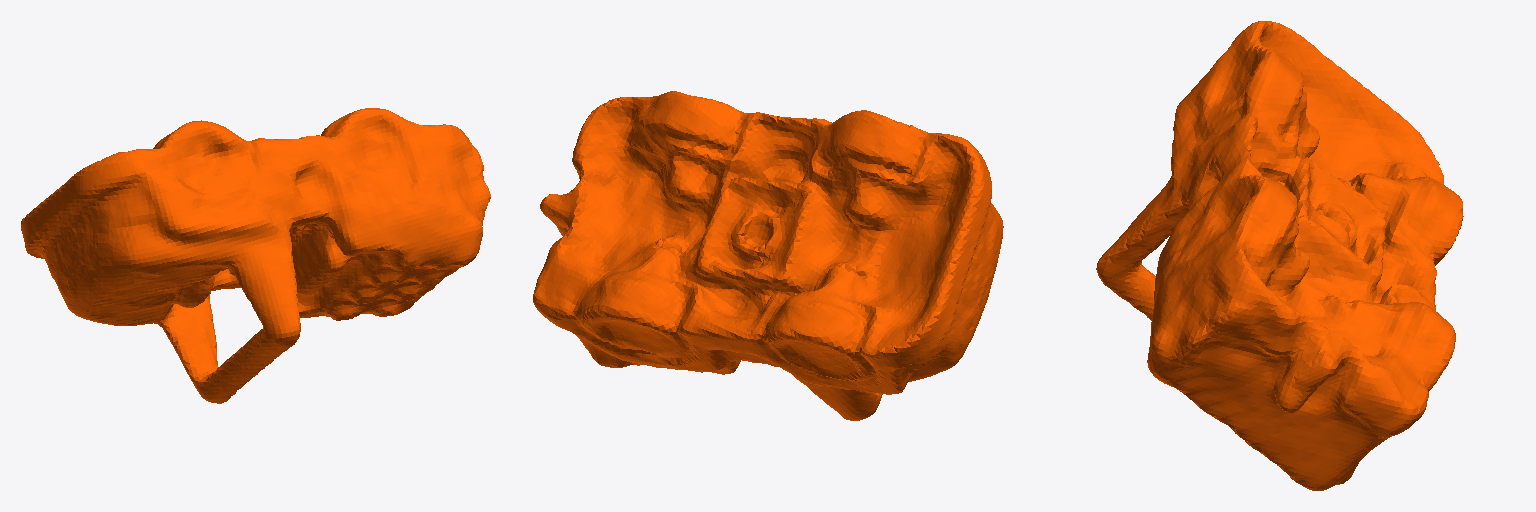
robot.urdf — 5fdcfc03f:
<?xml version="1.0" ?>
<robot name="5fdcfc03f">
   <material name="obj_color">
      <color rgba="1.0 0.423529411765 0.0392156862745 1.0"/>
   </material>
   <link name="top">
      <inertial>
         <origin rpy="0.0004731416551344318 0.001313042995061918 0.001545389974051939" xyz="0.0007319391253370718 0.004420278183695226 0.002109908604886679"/>
         <mass value="0.5204861000390145"/>
         <inertia ixx="0.0004957322847452236" ixy="6.830058955173905e-05" ixz="0.0001363250450434975" iyy="0.001413009897090979" iyz="0.0001069497571998175" izz="0.001422832442412085"/>
      </inertial>
      <visual>
         <origin rpy="0 0 0" xyz="0 0 0"/>
         <geometry>
            <mesh filename="top_watertight_tiny.stl" scale="1 1 1"/>
         </geometry>
         <material name="obj_color"/>
      </visual>
      <collision>
         <origin rpy="0 0 0" xyz="0 0 0"/>
         <geometry>
            <mesh filename="top_watertight_tiny.obj" scale="1 1 1"/>
         </geometry>
      </collision>
   </link>
   <link name="bottom">
      <inertial>
         <origin rpy="1.633333333199431e-08 1.633333333199431e-08 1.633333333362855e-08" xyz="0.3464080000000008 0.3464080000000008 0.3464080000000008"/>
         <mass value="0.0009800000000000017"/>
         <inertia ixx="1.633333333253906e-08" ixy="5.447480642029219e-19" ixz="5.447480642029219e-19" iyy="1.633333333253906e-08" iyz="5.447480642029219e-19" izz="1.633333333253906e-08"/>
      </inertial>
      <visual>
         <origin rpy="0 0 0" xyz="0 0 0"/>
         <geometry>
            <mesh filename="bottom_watertight_tiny.stl" scale="1 1 1"/>
         </geometry>
         <material name="obj_color"/>
      </visual>
   </link>
   <joint name="rotation" type="revolute">
      <origin xyz="0 0 0"/>
      <axis xyz="0 0 -1"/>
      <parent link="bottom"/>
      <child link="top"/>
      <dynamics damping="1.0" friction="1.0"/>
      <limit effort="0.1" velocity="0.1" lower="0" upper="0.001"/>
   </joint>
</robot>

--- What the picture shows (computed from the rendered views, not written in the file) ---
The picture shows the robot from 3 angles, left to right: view 1: azimuth 30°, elevation 25°; view 2: azimuth 150°, elevation 25°; view 3: azimuth 270°, elevation 25°; orthographic projection.
Model 5fdcfc03f with 2 links and 1 joints (1 revolute), rooted at bottom, posed all joints at 0.
Visible links, largest first — view 1: top; view 2: top; view 3: top.
Boxes of the visible links, x1,y1,x2,y2 form: top: (21,108,490,403); top: (533,91,1003,420); top: (1096,21,1463,490).
Bounding box of the posed robot: 0.178 × 0.1213 × 0.1222 m (x, y, z).
1 mesh visuals loaded from 2 distinct referenced files (1 binary STL); not drawn: 1 (reference not matched to a file when rendering).